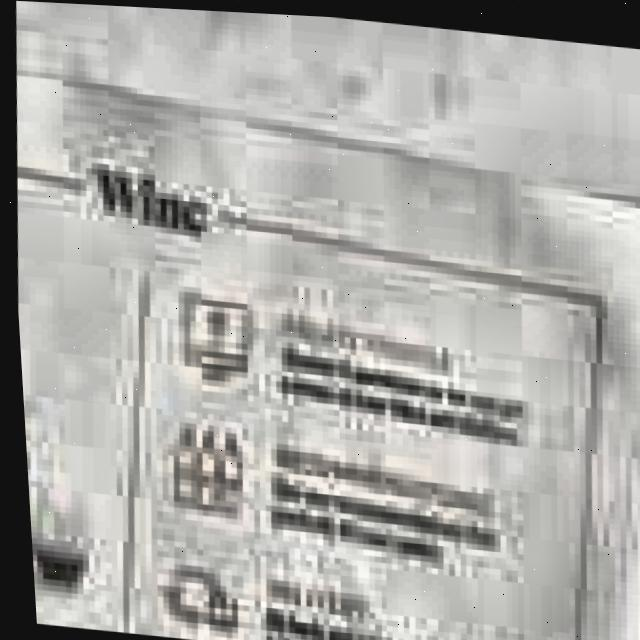paper: (15, 69, 640, 640)
